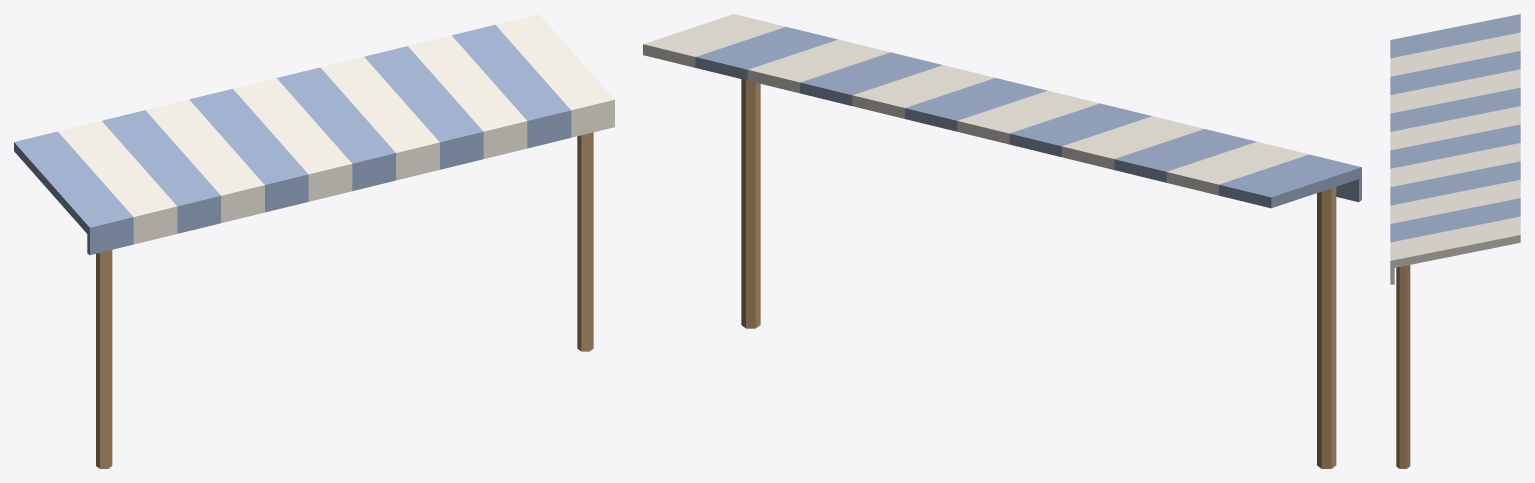
The model's file is awning_w6_0_brick.glb.
3 views of the same model, side by side, from view 1: azimuth 30°, elevation 25°; view 2: azimuth 150°, elevation 25°; view 3: azimuth 270°, elevation 25° (orthographic). The views are drawn at different scales.
Parts seen in each view (by area): view 1: Player; view 2: Player; view 3: Player.
Boxes of the visible parts, bbox=[...] form: Player: bbox=[14, 14, 614, 468]; Player: bbox=[643, 14, 1361, 468]; Player: bbox=[1390, 14, 1520, 468].
Bounding box in the file's own units: 6 × 3.05 × 1.5.
